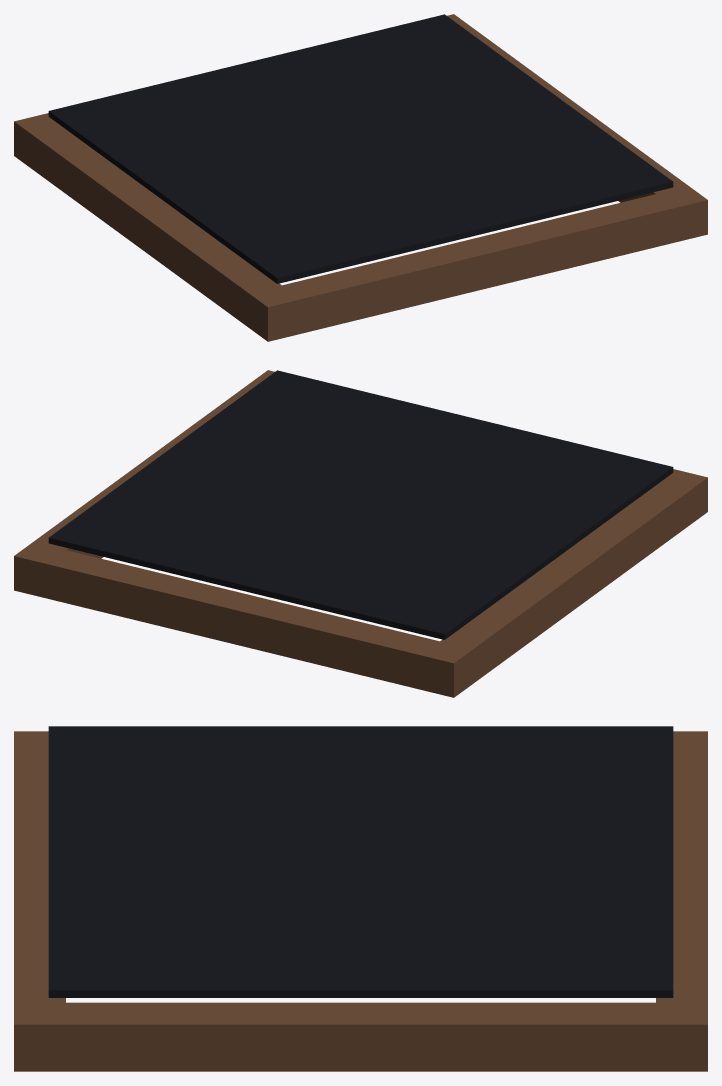
Rendered from cell_skylight.glb.
3 renders of one model, top to bottom at view 1: azimuth 30°, elevation 25°; view 2: azimuth 150°, elevation 25°; view 3: azimuth 270°, elevation 25°, orthographic. The views are drawn at different scales.
Visible parts, largest first — view 1: hole_skylight_dark, frame_skylight_rust; view 2: hole_skylight_dark, frame_skylight_rust; view 3: hole_skylight_dark, frame_skylight_rust.
Boxes of the visible parts, left/top/right/bottom form: hole_skylight_dark: left=48, top=14, right=673, bottom=283; frame_skylight_rust: left=14, top=14, right=707, bottom=341; hole_skylight_dark: left=48, top=370, right=673, bottom=639; frame_skylight_rust: left=14, top=370, right=707, bottom=697; hole_skylight_dark: left=48, top=726, right=673, bottom=997; frame_skylight_rust: left=14, top=731, right=707, bottom=1071.
Bounding box in the file's own units: 0.8 × 0.085 × 0.8.
